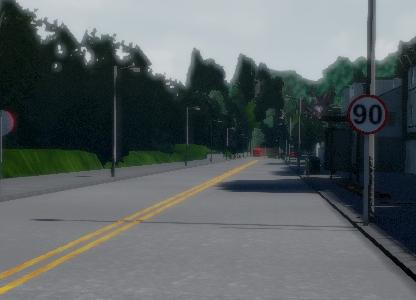Speed_90: (347, 91, 389, 138)
